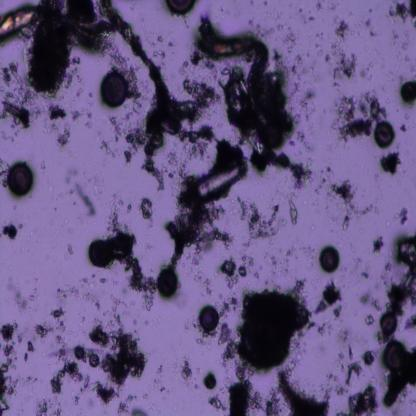Background material: (239, 290, 314, 376), (0, 3, 113, 54), (166, 177, 230, 266), (109, 228, 156, 313), (30, 16, 74, 98), (248, 143, 314, 190), (100, 324, 147, 388), (258, 71, 296, 147), (328, 173, 375, 231), (274, 371, 334, 415), (385, 234, 416, 316), (96, 110, 141, 162), (380, 350, 416, 410), (49, 277, 102, 312), (237, 198, 281, 238), (268, 234, 303, 284), (144, 119, 168, 190), (3, 277, 43, 317), (2, 88, 48, 121), (322, 42, 360, 81), (182, 76, 221, 113), (75, 68, 95, 138), (334, 386, 379, 414), (313, 278, 342, 319), (48, 363, 82, 397), (190, 261, 217, 298), (150, 358, 174, 399), (293, 47, 314, 92), (249, 14, 290, 37), (106, 194, 130, 233), (72, 180, 97, 217), (238, 244, 262, 282), (337, 118, 374, 142), (90, 318, 116, 352), (153, 26, 174, 68), (229, 380, 254, 415), (316, 320, 354, 343), (359, 90, 389, 119), (121, 128, 144, 165), (318, 154, 338, 194), (386, 1, 416, 27), (220, 323, 238, 361), (333, 90, 357, 118), (0, 362, 13, 413), (178, 349, 194, 389), (3, 61, 24, 91), (288, 278, 313, 301), (382, 150, 404, 176), (362, 7, 379, 39), (220, 292, 241, 317), (54, 122, 74, 148), (98, 384, 118, 409), (188, 315, 204, 345), (342, 363, 362, 386), (285, 199, 299, 230), (299, 90, 315, 117), (220, 261, 238, 285), (265, 388, 281, 414), (0, 321, 19, 342), (48, 103, 68, 121), (298, 0, 318, 18), (208, 392, 228, 410), (394, 206, 411, 226), (282, 33, 296, 56), (0, 155, 10, 186), (142, 197, 154, 221), (36, 323, 52, 341), (334, 19, 349, 37), (362, 262, 380, 277), (372, 234, 384, 255), (51, 306, 67, 321), (404, 312, 416, 332), (20, 107, 30, 130), (132, 97, 144, 116), (2, 344, 16, 359), (25, 340, 36, 356), (364, 312, 376, 326), (399, 121, 409, 136), (347, 342, 354, 361), (238, 266, 247, 277), (66, 245, 74, 256), (23, 352, 30, 363), (2, 226, 8, 236), (42, 159, 47, 171)
Cellulose filter fibre: (98, 0, 186, 126), (198, 16, 270, 127), (361, 293, 384, 313)
Diatom: (198, 163, 245, 198), (100, 71, 128, 108), (6, 162, 34, 198), (156, 268, 180, 301), (89, 238, 112, 271), (382, 340, 407, 369), (374, 119, 396, 150), (319, 244, 341, 273), (199, 307, 220, 333), (162, 1, 200, 15), (379, 312, 399, 337), (0, 100, 25, 119), (400, 80, 416, 104), (204, 372, 218, 393), (89, 352, 101, 370), (363, 350, 375, 367), (85, 380, 100, 392), (7, 224, 18, 240), (74, 345, 85, 360)
